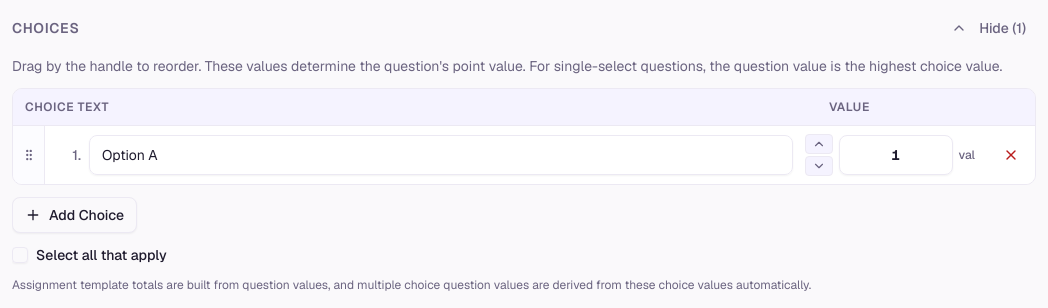
Test: McqFields › hides choices when collapse button is clicked
// Click hide
Click the button "Hide (1)" at (989, 28), box [941,12,1036,44]
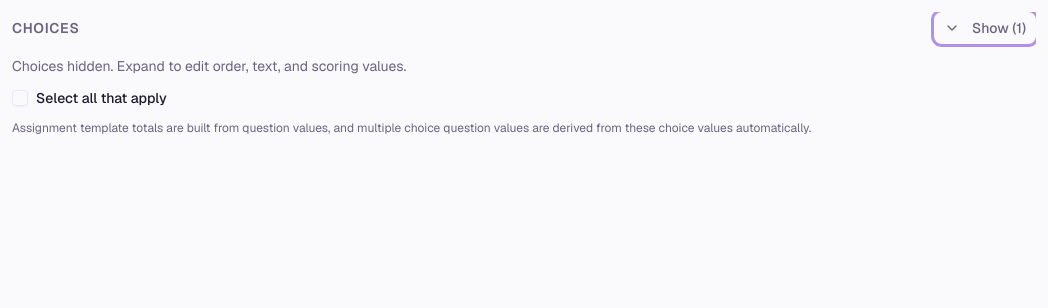
Expected: the text "Choices hidden" is shown, [12,57,406,75]
Expected: the button "Show (1)" is shown, [934,12,1036,44]
